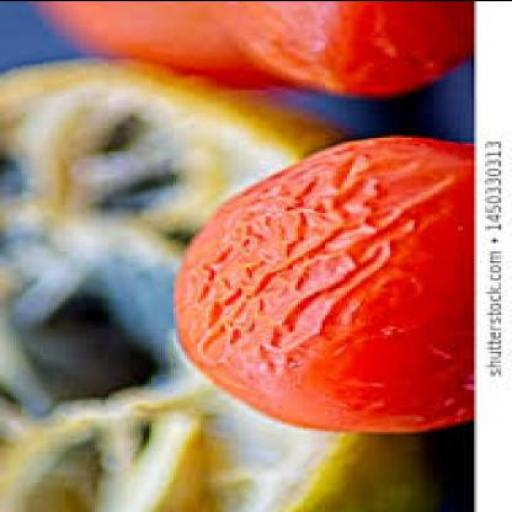biodegradable: (0, 59, 434, 510), (171, 140, 474, 437), (203, 2, 474, 104), (32, 2, 288, 90)
